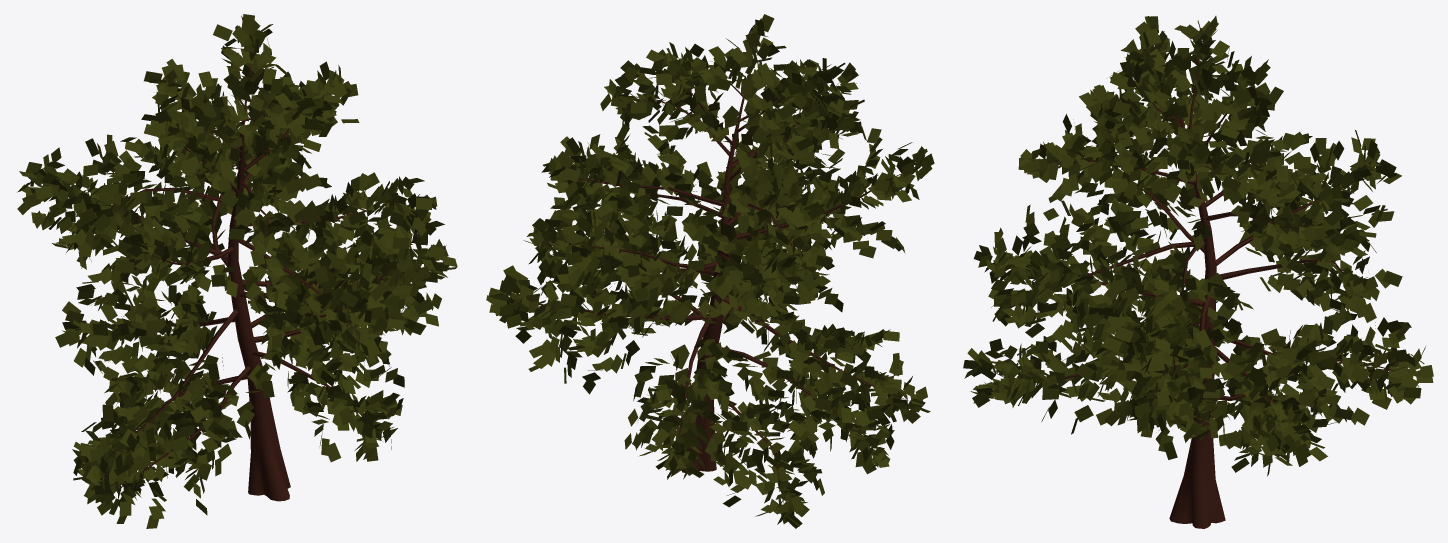
Rendered from tree_low_detail.FBX.
3 views of the same model, side by side, from view 1: azimuth 30°, elevation 25°; view 2: azimuth 150°, elevation 25°; view 3: azimuth 270°, elevation 25° (orthographic). The views are drawn at different scales.
Parts seen in each view (by area): view 1: Foliage001; view 2: Foliage001; view 3: Foliage001.
Boxes of the visible parts, x1,y1,x2,y2 form: Foliage001: (17, 14, 457, 528); Foliage001: (486, 14, 934, 528); Foliage001: (963, 16, 1433, 528).
Size of the model in its own units: 407 by 457 by 416.
